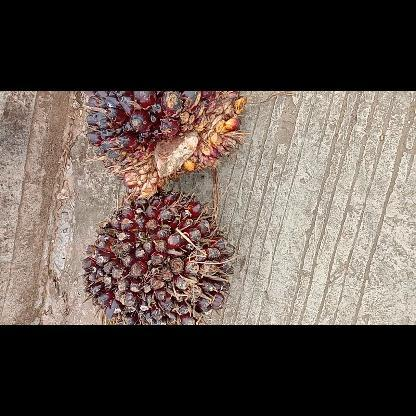TBS mentah: (80, 188, 236, 324), (78, 91, 246, 201)
